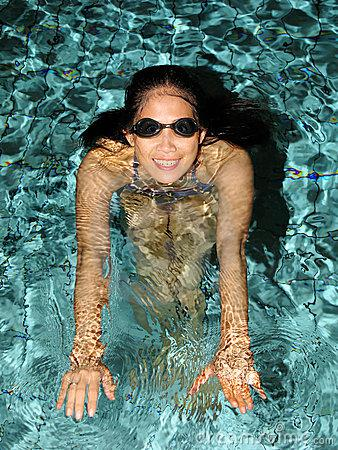swimmer: (67, 61, 268, 414)
